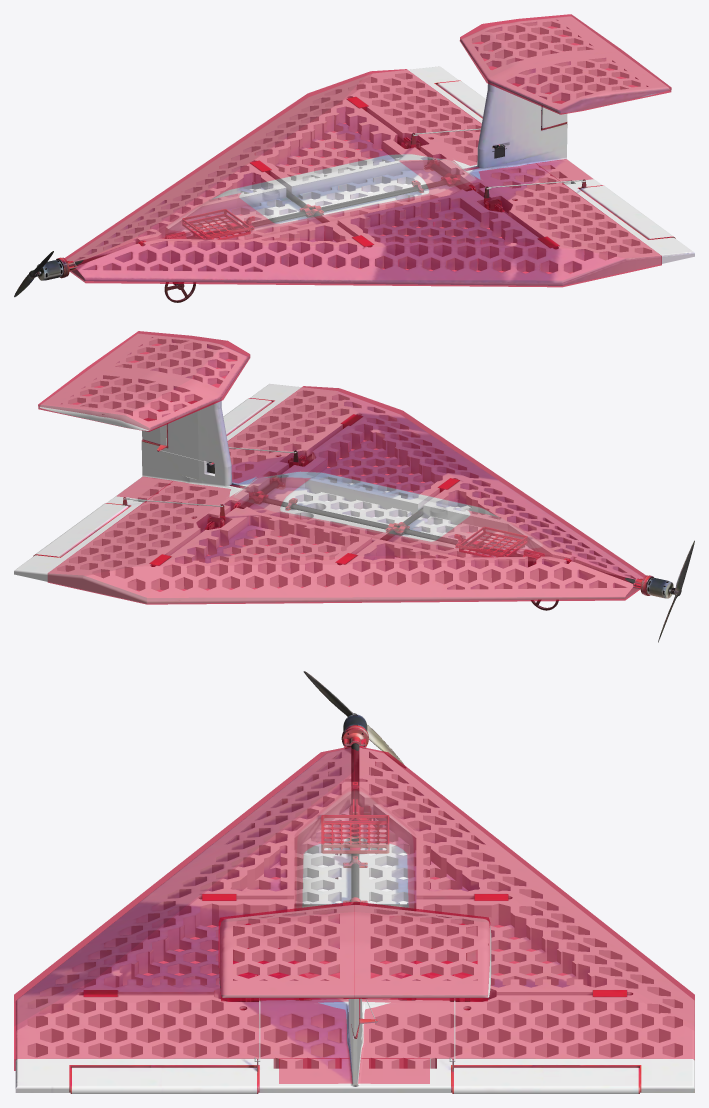
Rendered from micro-2025.glb.
3 renders of one model, top to bottom at view 1: azimuth 30°, elevation 25°; view 2: azimuth 150°, elevation 25°; view 3: azimuth 270°, elevation 25°, orthographic. The views are drawn at different scales.
Visible parts, largest first — view 1: RadioactiveAssembly v1, Cube, tank; view 2: RadioactiveAssembly v1, Cube, tank; view 3: RadioactiveAssembly v1, Cube, tank.
Part boxes in pixels (x1=…): RadioactiveAssembly v1: x1=14, y1=16, x2=694, y2=302; Cube: x1=65, y1=14, x2=671, y2=287; tank: x1=145, y1=154, x2=475, y2=240; RadioactiveAssembly v1: x1=14, y1=333, x2=694, y2=642; Cube: x1=38, y1=331, x2=645, y2=604; tank: x1=233, y1=471, x2=564, y2=558; RadioactiveAssembly v1: x1=15, y1=671, x2=694, y2=1093; Cube: x1=14, y1=746, x2=694, y2=1083; tank: x1=296, y1=786, x2=414, y2=1000.
Bounding box in the file's own units: 1.34 × 0.3246 × 1.
4 materials, 1 textured.
